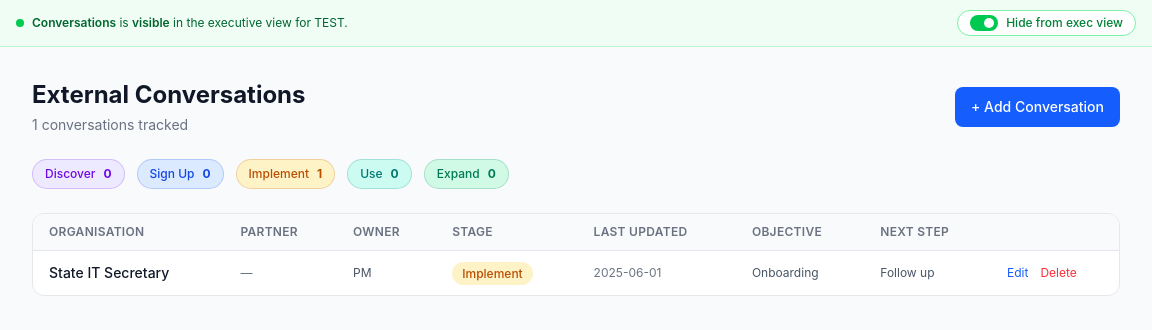
ConversationEditor › T-38.05: Delete button removes the conversation
Check: the text "State IT Secretary" is shown, box [33,250,224,295]
Click the button "Delete" at (1059, 273), box [1040,265,1077,281]
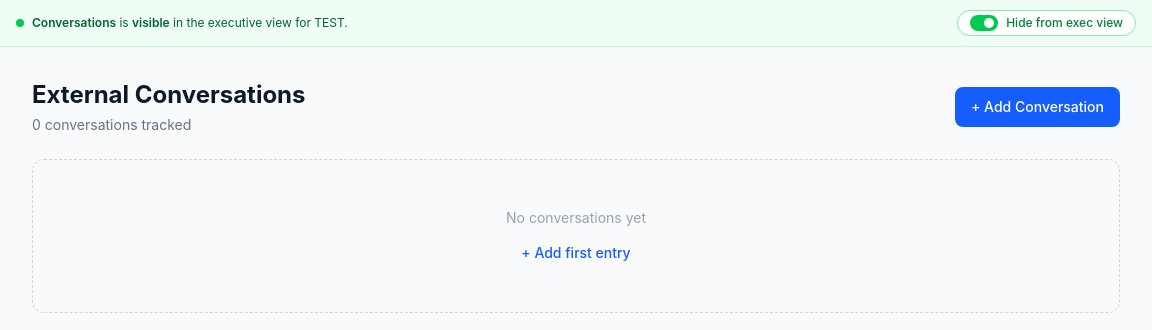
Check: the text "State IT Secretary" is gone
